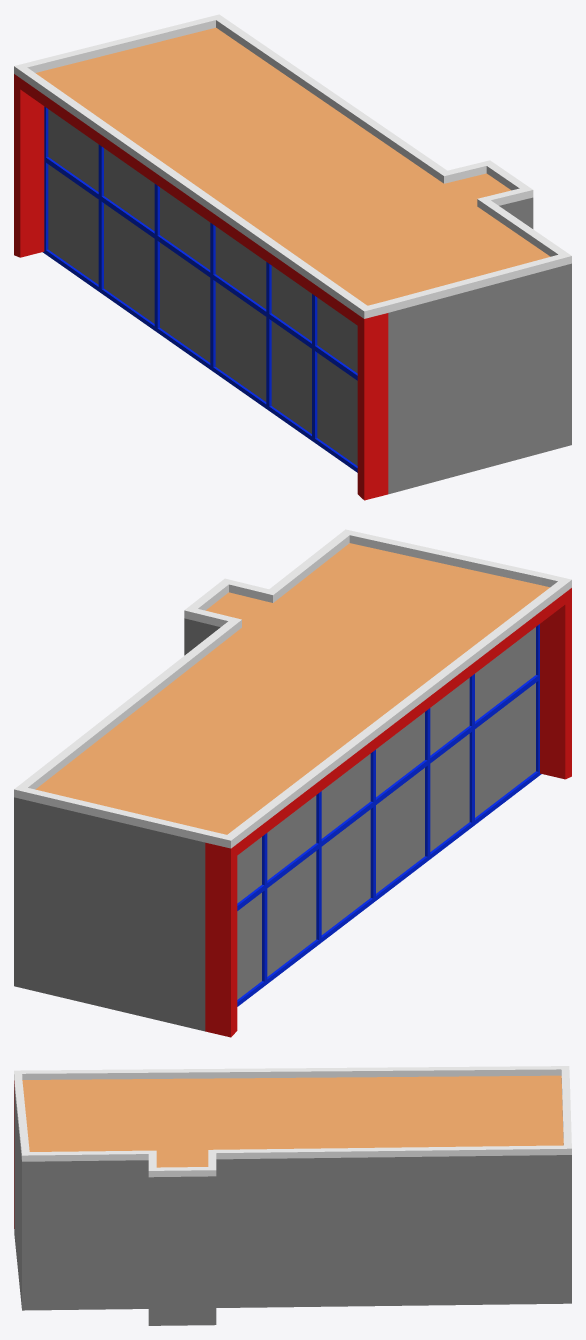
File: market.FBX
3 views of the same model, one above another, from view 1: azimuth 30°, elevation 25°; view 2: azimuth 150°, elevation 25°; view 3: azimuth 270°, elevation 25° (orthographic). The views are drawn at different scales.
Parts seen in each view (by area): view 1: Budovy; view 2: Budovy; view 3: Budovy.
Part boxes in pixels (x1,y1,x2,y2): Budovy: (14, 14, 571, 500); Budovy: (14, 529, 571, 1037); Budovy: (14, 1066, 571, 1325).
Size of the model in its own units: 2177 by 1498 by 4890.
